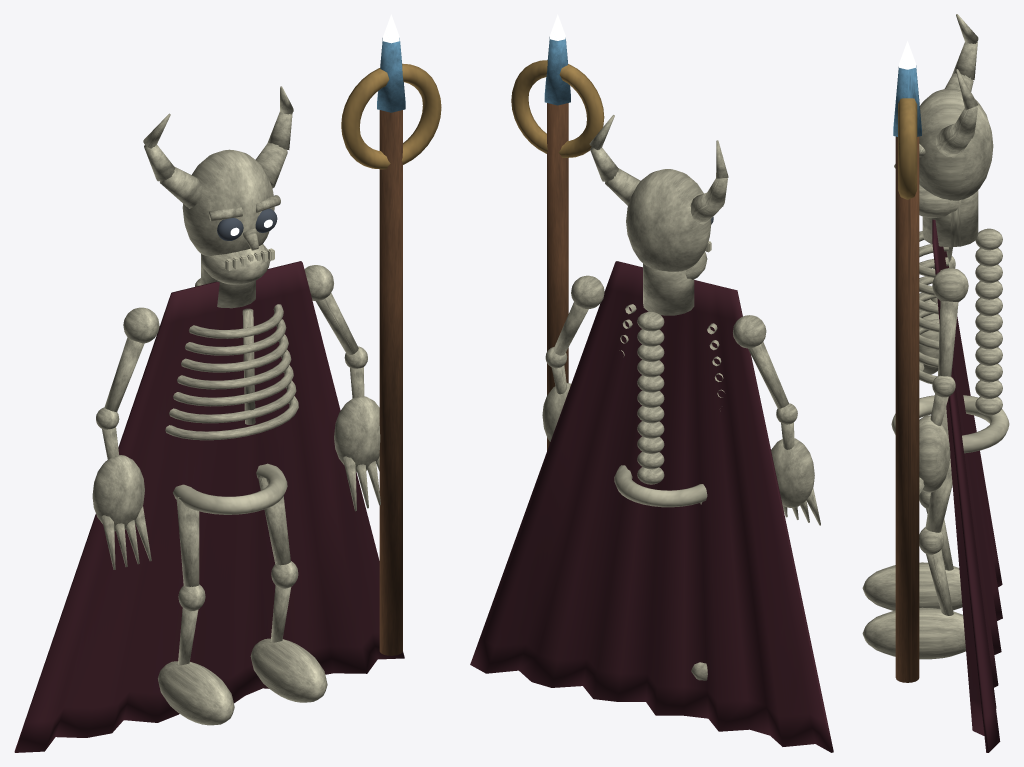
Rendered from enemy_soul_eater.glb.
The picture shows the model from 3 angles, left to right: view 1: azimuth 30°, elevation 25°; view 2: azimuth 150°, elevation 25°; view 3: azimuth 270°, elevation 25°; orthographic projection. The views are drawn at different scales.
Visible parts, largest first — view 1: Worn_crimson_cloth, Aged_bone.005, Old_oak, Aged_bone, Aged_bone.002, Aged_bone.001, Aged_bone.004, Aged_bone.003, Antique_brass, Blue_glacial_ice, Eye_socket; view 2: Worn_crimson_cloth, Aged_bone.005, Aged_bone, Old_oak, Aged_bone.002, Antique_brass, Aged_bone.004, Blue_glacial_ice; view 3: Old_oak, Worn_crimson_cloth, Aged_bone.005, Aged_bone, Aged_bone.003, Aged_bone.004, Aged_bone.001, Antique_brass, Blue_glacial_ice, Aged_bone.002, Soul_light.001.
Boxes of the visible parts, left/top/right/bottom form: Worn_crimson_cloth: left=14, top=261, right=404, bottom=752; Aged_bone.005: left=143, top=86, right=293, bottom=308; Old_oak: left=379, top=110, right=402, bottom=655; Aged_bone: left=165, top=278, right=298, bottom=514; Aged_bone.002: left=92, top=307, right=159, bottom=569; Aged_bone.001: left=158, top=497, right=234, bottom=725; Aged_bone.004: left=304, top=265, right=380, bottom=511; Aged_bone.003: left=250, top=475, right=327, bottom=702; Antique_brass: left=341, top=63, right=441, bottom=169; Blue_glacial_ice: left=377, top=38, right=405, bottom=112; Eye_socket: left=217, top=208, right=277, bottom=240; Worn_crimson_cloth: left=470, top=261, right=833, bottom=752; Aged_bone.005: left=589, top=115, right=728, bottom=315; Aged_bone: left=614, top=304, right=724, bottom=507; Old_oak: left=547, top=103, right=568, bottom=450; Aged_bone.002: left=733, top=315, right=820, bottom=525; Antique_brass: left=511, top=60, right=604, bottom=157; Aged_bone.004: left=542, top=275, right=604, bottom=441; Blue_glacial_ice: left=544, top=37, right=570, bottom=105; Old_oak: left=895, top=136, right=919, bottom=682; Worn_crimson_cloth: left=932, top=219, right=1002, bottom=752; Aged_bone.005: left=894, top=14, right=993, bottom=247; Aged_bone: left=891, top=228, right=1009, bottom=453; Aged_bone.003: left=862, top=458, right=965, bottom=659; Aged_bone.004: left=919, top=268, right=968, bottom=494; Aged_bone.001: left=862, top=407, right=962, bottom=610; Antique_brass: left=898, top=98, right=917, bottom=199; Blue_glacial_ice: left=893, top=65, right=921, bottom=136; Aged_bone.002: left=919, top=247, right=955, bottom=374; Soul_light.001: left=899, top=41, right=915, bottom=69.
Bounding box in the file's own units: 2.14 × 3.58 × 0.6946.
Materials: 7 (5 with a texture image).
